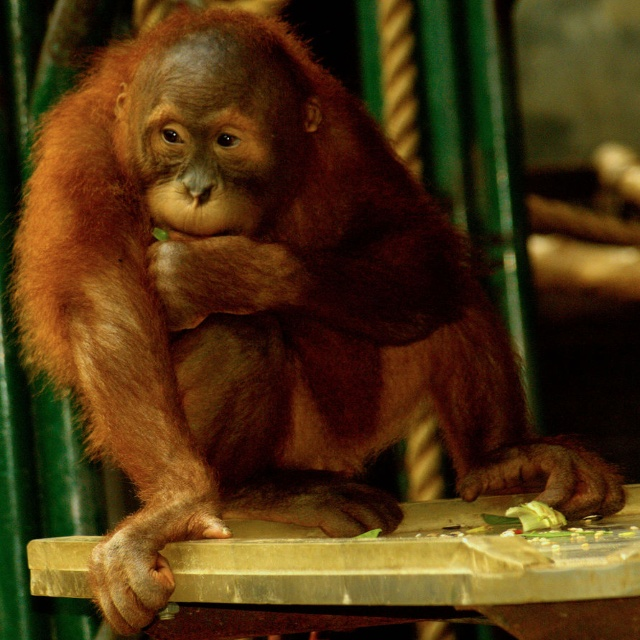Monkey: (12, 7, 629, 637)
